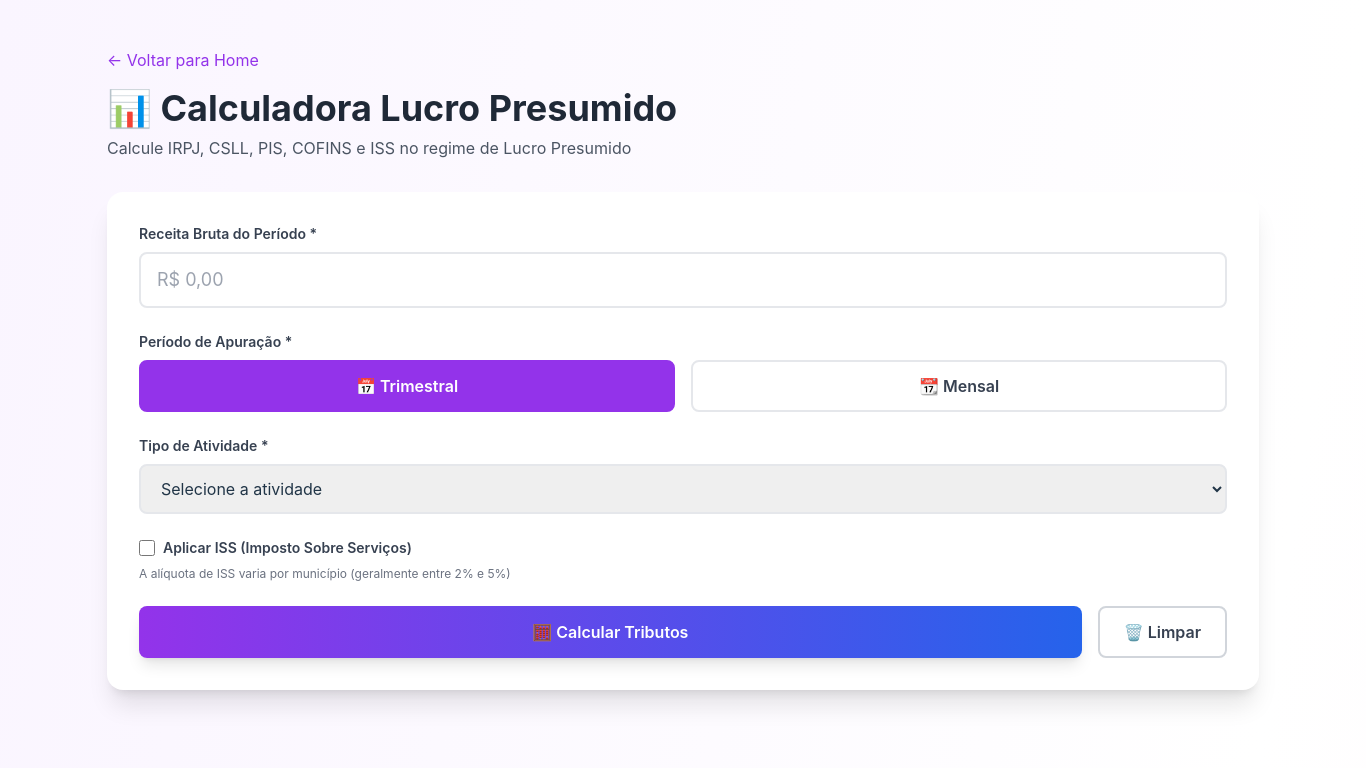
Test: CalculadoraPresumido - Calculadora de Lucro Presumido › Interações do Formulário › deve habilitar campo de ISS quando checkbox marcado
// O usuário marca o checkbox de ISS
Click the checkbox labelled "Aplicar ISS (Imposto Sobre Serviços)" at (147,548), box [139,540,155,556]
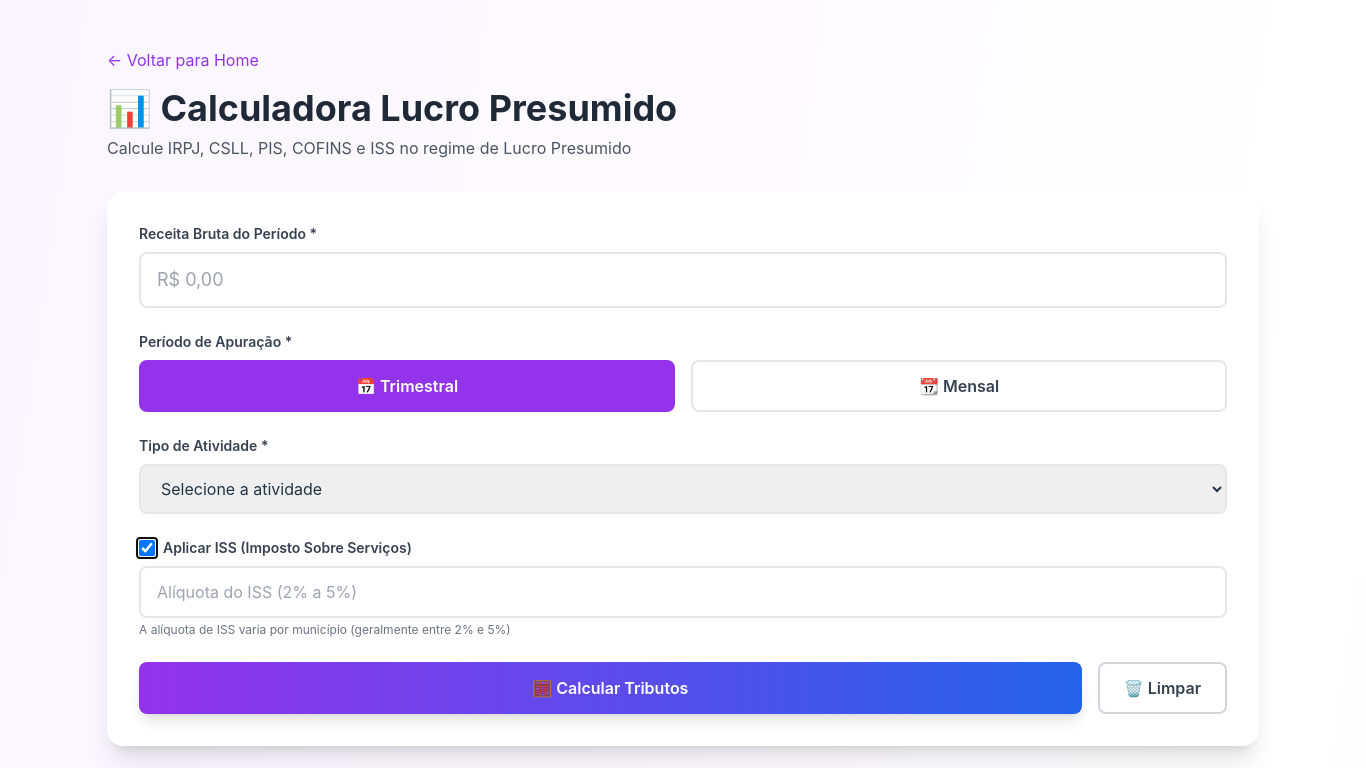
Expected: the number field with placeholder "Alíquota do ISS (2% a 5%)" is shown, [139,566,1227,618]
